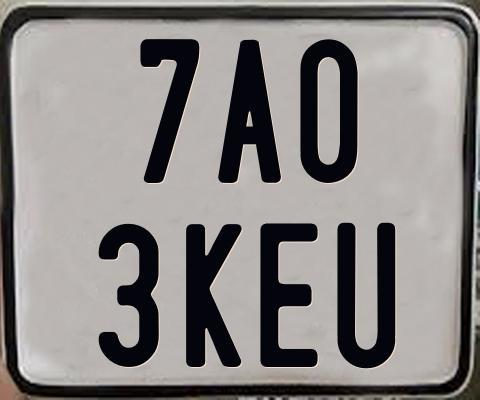0: (297, 36, 359, 180)
3: (97, 222, 161, 370)
7: (140, 36, 201, 184)
A: (216, 37, 285, 185)
E: (260, 222, 320, 369)
K: (183, 222, 239, 365)
U: (334, 222, 392, 368)
